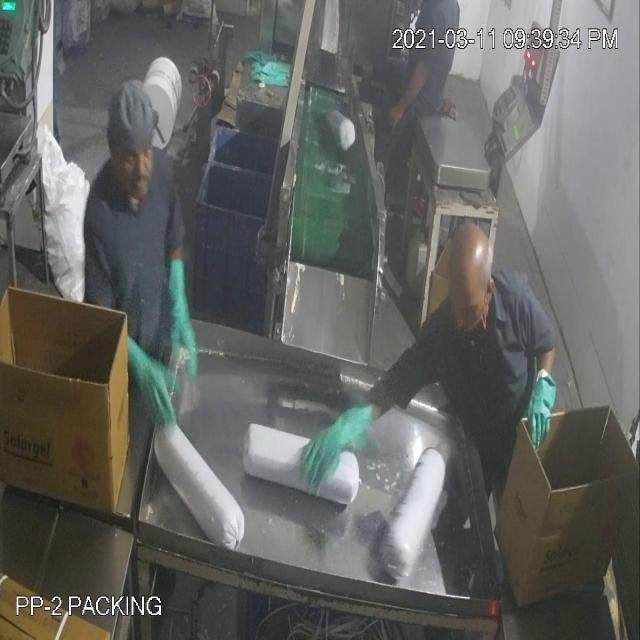Gloves: (44, 68, 542, 446)
